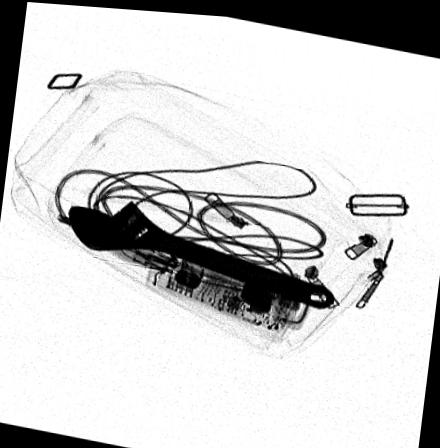Wrench: (65, 197, 333, 304)
